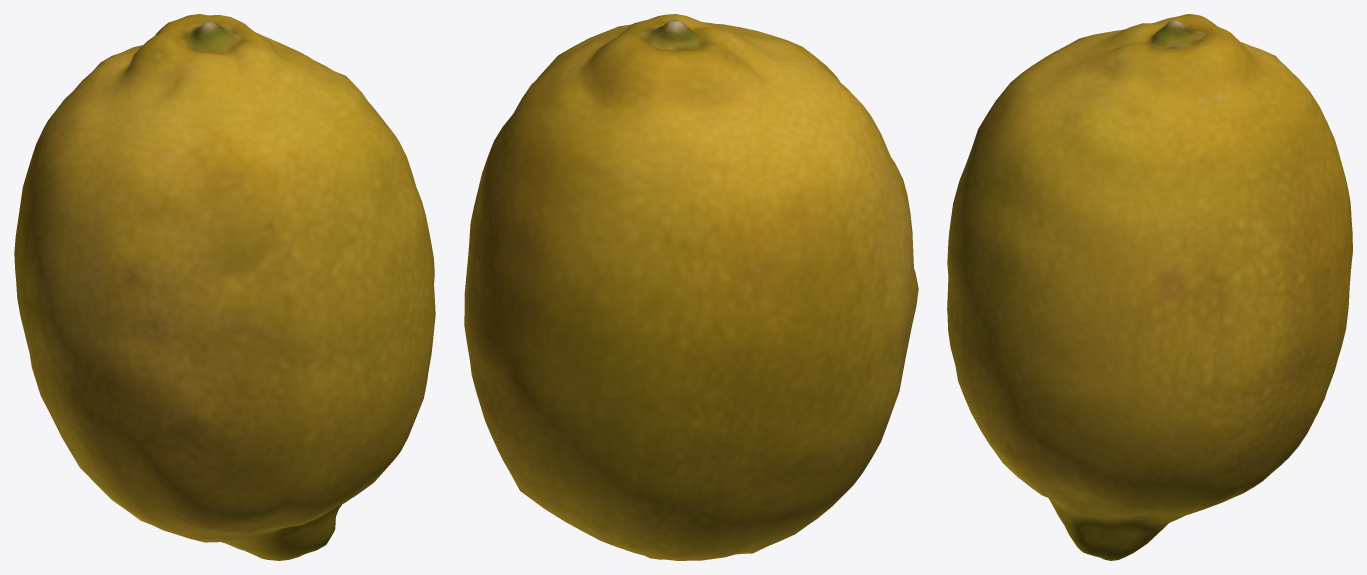
Rendered from Lemon_astral3d.optimize.glb.
3 views of the same model, side by side, from view 1: azimuth 30°, elevation 25°; view 2: azimuth 150°, elevation 25°; view 3: azimuth 270°, elevation 25° (orthographic). The views are drawn at different scales.
Parts seen in each view (by area): view 1: lemon; view 2: lemon; view 3: lemon.
Boxes of the visible parts, left/top/right/bottom form: lemon: left=14, top=14, right=435, bottom=560; lemon: left=464, top=14, right=918, bottom=560; lemon: left=947, top=14, right=1352, bottom=560.
Size of the model in its own units: 0.0687 by 0.0954 by 0.0683.
1 material, 1 textured.
